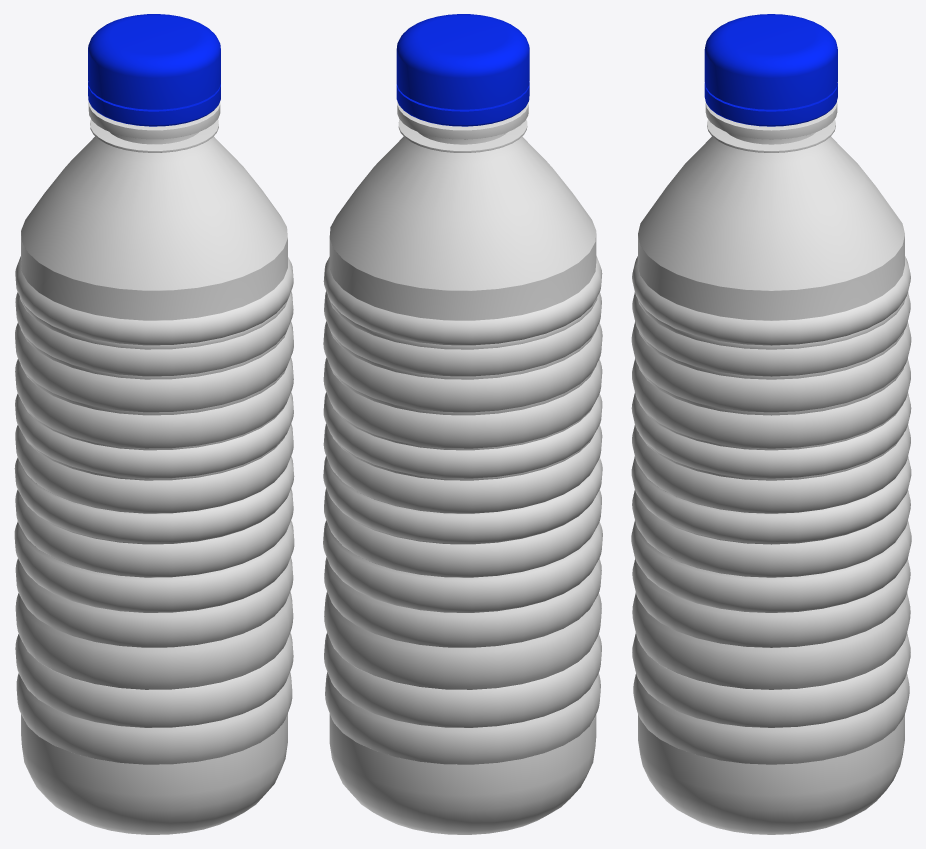
The model's file is water.fbx.
3 renders of one model, left to right at view 1: azimuth 30°, elevation 25°; view 2: azimuth 150°, elevation 25°; view 3: azimuth 270°, elevation 25°, orthographic.
Parts seen in each view (by area): view 1: Cylinder, Cylinder.001, Cylinder.002; view 2: Cylinder, Cylinder.001, Cylinder.002; view 3: Cylinder, Cylinder.001, Cylinder.002.
Boxes of the visible parts, x1,y1,x2,y2 form: Cylinder: (14, 102, 294, 834); Cylinder.001: (88, 14, 220, 126); Cylinder.002: (20, 295, 289, 544); Cylinder: (323, 101, 602, 834); Cylinder.001: (396, 14, 529, 126); Cylinder.002: (328, 296, 597, 544); Cylinder: (631, 101, 911, 834); Cylinder.001: (704, 14, 837, 126); Cylinder.002: (638, 299, 904, 544).
Bounding box in the file's own units: 1.45 × 4.36 × 1.45.
